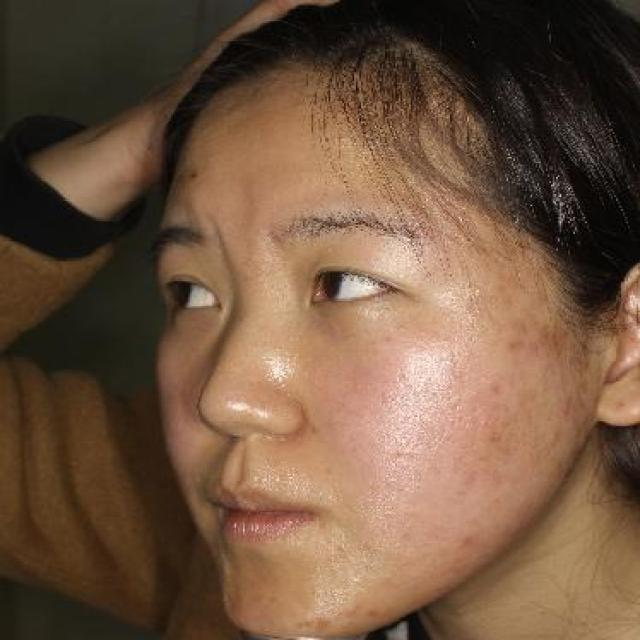blackhead: (182, 169, 201, 186)
nodules: (310, 606, 337, 632), (332, 538, 352, 554)
